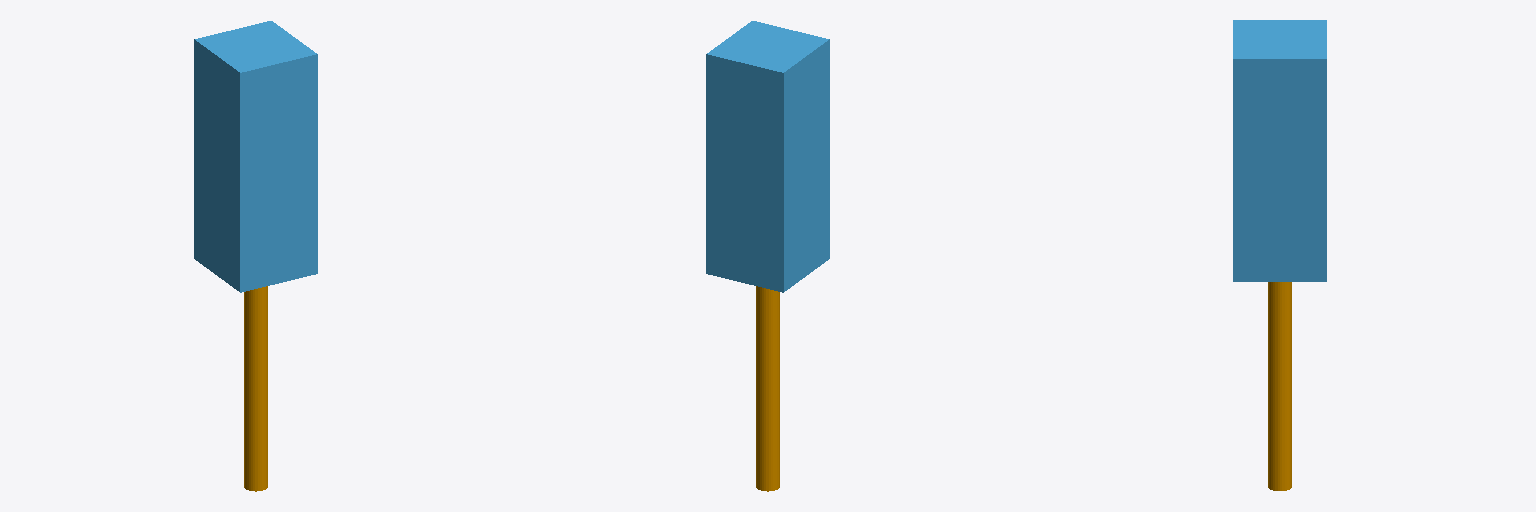
URDF robot description (screwdriver_on_the_table):
<?xml version="1.0" ?>
<!-- this is the one without any virtual joints and links -->
<robot name="screwdriver_on_the_table">
<link name="screwdriver_stick">
    <inertial>
      <mass value="0.05"/>
      <!-- <friction value="1.0"/> -->
      <inertia ixx="0.000041979" ixy="0.0" ixz="0.0" iyy="0.000041979" iyz="0.0" izz="0.000000625"/>
    </inertial>
    <visual>
        <origin rpy="0 0 0" xyz="0 0 0.05"/>
        <geometry>
            <cylinder radius="0.005" length="0.1"/>
        </geometry>
        <!-- <material name="White">
	 	    <color rgba="0.9 0.9 0.9 0.5"/>
        </material> -->
    </visual>
    <collision>
        <origin rpy="0 0 0" xyz="0 0 0.05"/>
        <geometry>
            <cylinder radius="0.005" length="0.1"/>
        </geometry>
    </collision>
</link>

<gazebo reference="screwdriver_body">
    <mu1>1.135910</mu1>
    <mu2>1.176606</mu2>
    <!-- Isaac Sim maps mu1/mu2 to PhysX static/dynamic friction during URDF→USD import -->
</gazebo>

<joint name="screwdriver_stick_body_joint" type="fixed">
    <parent link="screwdriver_stick"/>
    <child link="screwdriver_body"/>
    <origin rpy="0 0 0" xyz="0 0 0.1"/> 
    <axis xyz="0 0 1"/>
</joint>

<link name="screwdriver_body">
    <inertial>
      <mass value="0.092787"/>
      <inertia ixx="0.000088453" ixy="0.0" ixz="0.0" iyy="0.000087766" iyz="0.0" izz="0.000021573"/>
    </inertial>
    <visual>
        <origin rpy="0 0 0" xyz="0 0 0.05"/>
        <geometry>
            <box size="0.036750 0.037940 0.100000"/>
        </geometry>
        <!-- <material name="Red1">
	 	    <color rgba="0.9 0. 0. 0.5"/>
        </material> -->
    </visual>
    <collision>
        <origin rpy="0 0 0" xyz="0 0 0.05"/>
        <geometry>
            <box size="0.036750 0.037940 0.100000"/>
        </geometry>
    </collision>
</link>

<!-- <joint name="screwdriver_body_cap_joint" type="revolute">
    <parent link="screwdriver_body"/>
    <child link="screwdriver_cap"/>
    <origin rpy="0 0 0" xyz="0 0 0.1"/> 
    <axis xyz="0 0 1"/>
</joint>

<link name="screwdriver_cap">
    <inertial>
      <mass value="0.005"/>
      <inertia ixx="0.00001" ixy="0.0" ixz="0.0" iyy="0.000005" iyz="0.0" izz="0.000005"/>
    </inertial>
    <visual>
        <origin rpy="0 0 0" xyz="0 0 0.0006"/>
        <geometry>
            <cylinder radius="0.02" length="0.001"/>
        </geometry>
        <material name="Yellow">
	 	    <color rgba="0.9 0.9 0. 1.0"/>
        </material>
    </visual>
    <collision>
        <origin rpy="0 0 0" xyz="0 0 0.0005"/>
        <geometry>
            <cylinder radius="0.02" length="0.001"/>
        </geometry>
    </collision>
</link> -->

</robot>

--- Facts derived from the render (not from the file) ---
3 views of the same robot in one strip: view 1: azimuth 30°, elevation 25°; view 2: azimuth 150°, elevation 25°; view 3: azimuth 270°, elevation 25° (orthographic).
Robot: screwdriver_on_the_table — 2 links, 1 joints (1 fixed); root link screwdriver_stick; default pose: every joint at zero.
Links seen in each view (by area): view 1: screwdriver_body, screwdriver_stick; view 2: screwdriver_body, screwdriver_stick; view 3: screwdriver_body, screwdriver_stick.
Link boxes in pixels (x1,y1,x2,y2): screwdriver_body: (194,21,317,292); screwdriver_stick: (244,286,267,491); screwdriver_body: (706,21,829,292); screwdriver_stick: (756,286,779,491); screwdriver_body: (1233,20,1326,281); screwdriver_stick: (1268,282,1291,490).
Size in the robot's own frame: 0.0367 by 0.0379 by 0.2 metres.
Geometry: primitives only (box / cylinder / sphere), no mesh files.
